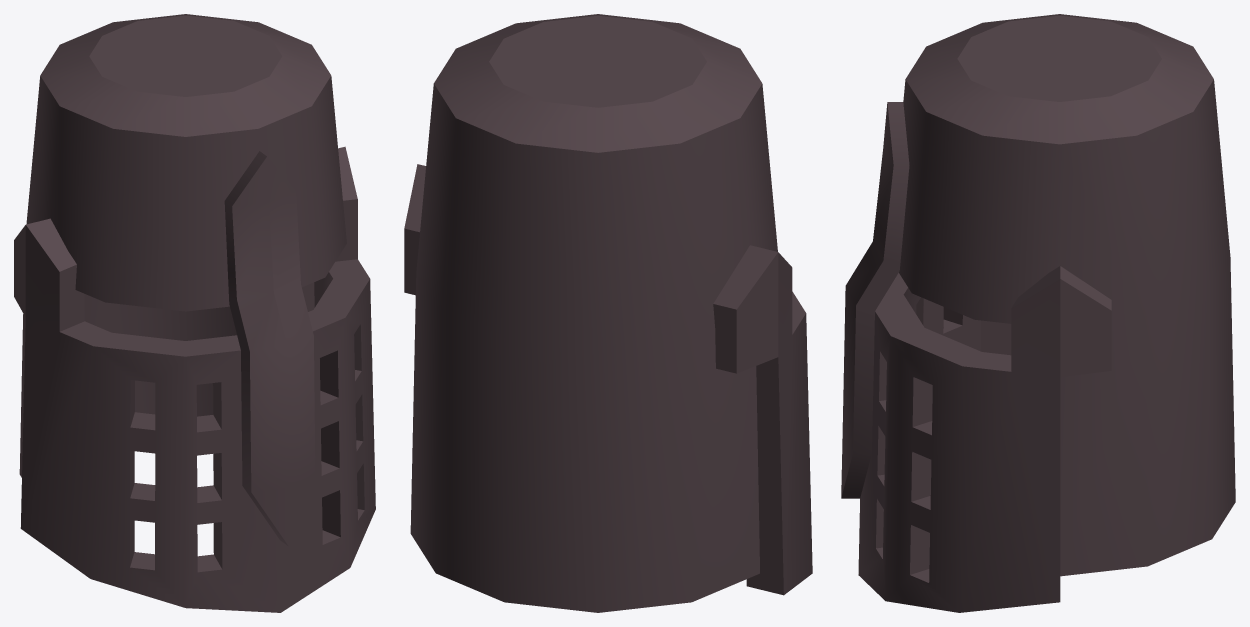
The model's file is knight.glb.
3 views of the same model, side by side, from view 1: azimuth 30°, elevation 25°; view 2: azimuth 150°, elevation 25°; view 3: azimuth 270°, elevation 25° (orthographic). The views are drawn at different scales.
Parts seen in each view (by area): view 1: Cylinder.001; view 2: Cylinder.001; view 3: Cylinder.001.
Boxes of the visible parts, left/top/right/bottom form: Cylinder.001: left=14, top=14, right=375, bottom=612; Cylinder.001: left=404, top=14, right=812, bottom=612; Cylinder.001: left=841, top=14, right=1235, bottom=612.
Bounding box in the file's own units: 2.61 × 3.69 × 2.56.
1 material, 1 textured.
